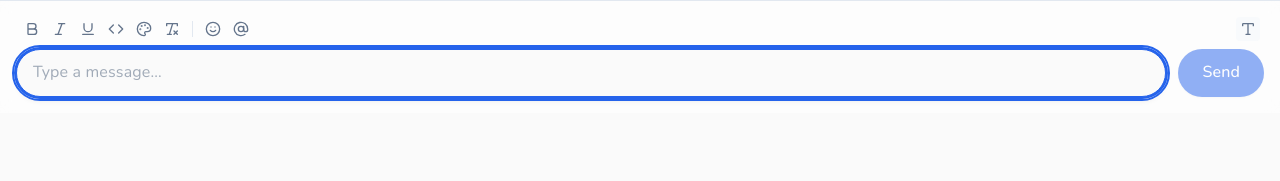
it: composer formatting toolbar › wraps the current selection in bold markup when Bold is clicked
Type "team" into the field with test id "message-input" at (591, 73), box top-left (16, 49), bottom-right (1166, 97)
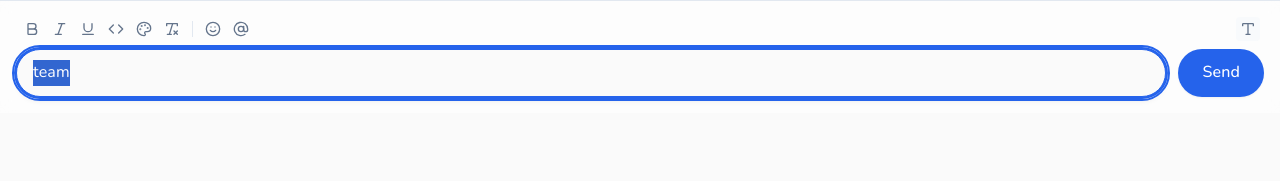
Click the button titled "Bold (Ctrl/Cmd+B)" at (32, 29), box top-left (20, 17), bottom-right (44, 41)
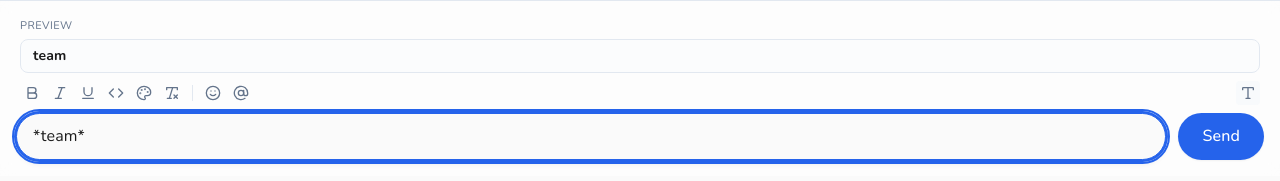
Expected: the field with test id "message-input" holds "*team*", top-left (16, 113), bottom-right (1166, 160)
